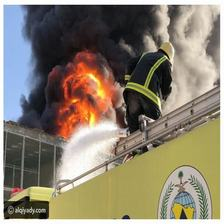fire: (18, 7, 127, 131)
